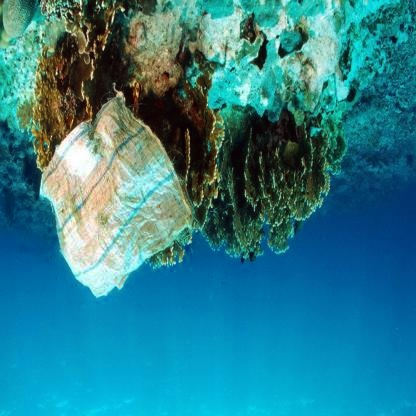misc: (34, 84, 194, 301)
